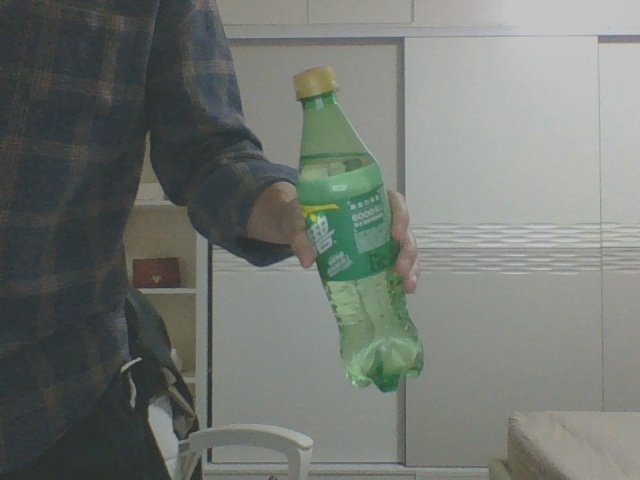Sprite: (292, 65, 426, 391)
